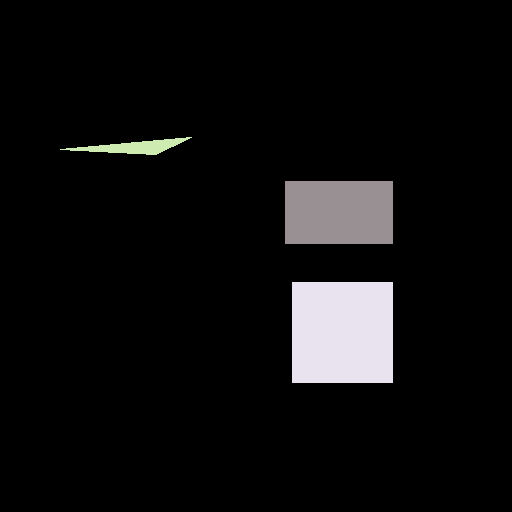rectangle: (285, 181, 392, 243)
square: (292, 282, 392, 382)
triangle: (60, 137, 191, 154)
